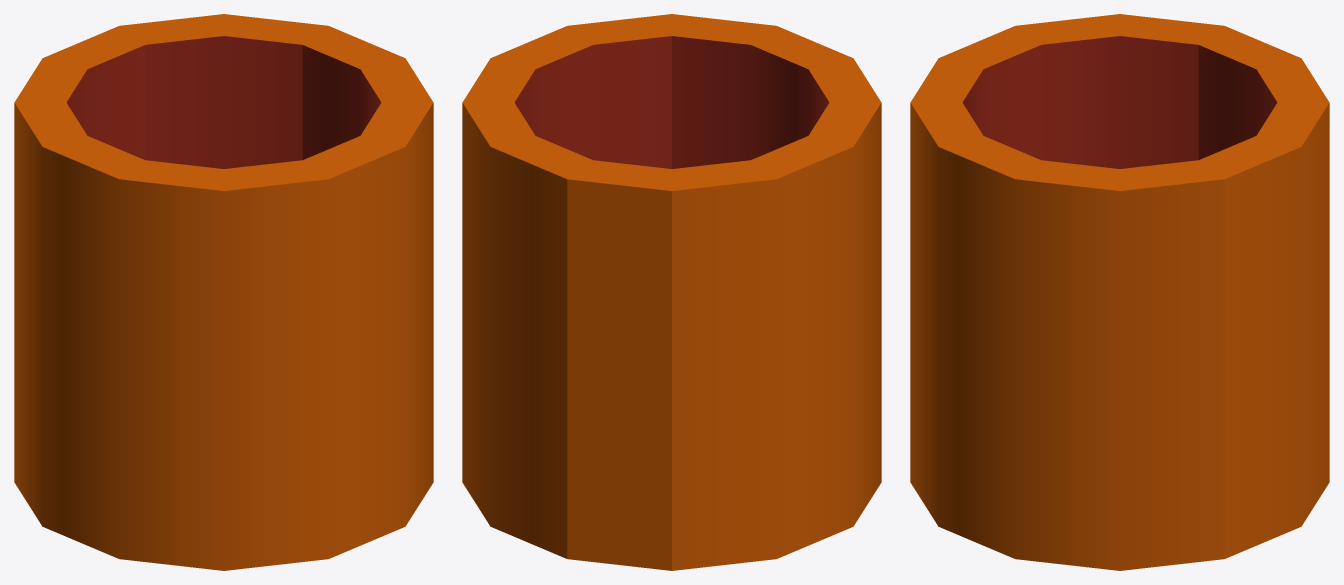
The model's file is TrashCan.fbx.
3 renders of one model, left to right at view 1: azimuth 30°, elevation 25°; view 2: azimuth 150°, elevation 25°; view 3: azimuth 270°, elevation 25°, orthographic.
Visible parts, largest first — view 1: TrashCan; view 2: TrashCan; view 3: TrashCan.
Boxes of the visible parts, <box> form: TrashCan: <box>14,14,433,570</box>; TrashCan: <box>462,14,881,570</box>; TrashCan: <box>910,14,1329,570</box>.
Bounding box in the file's own units: 635 × 635 × 635.
